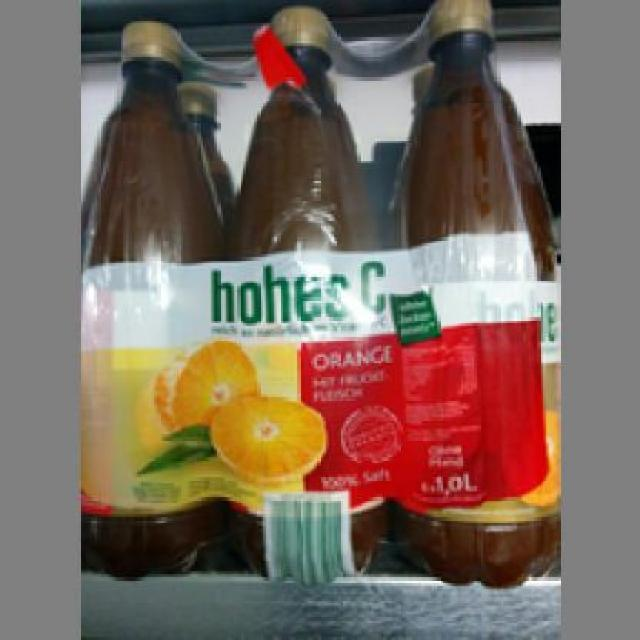Juice: (388, 0, 558, 586), (226, 6, 392, 568), (80, 17, 226, 570)
